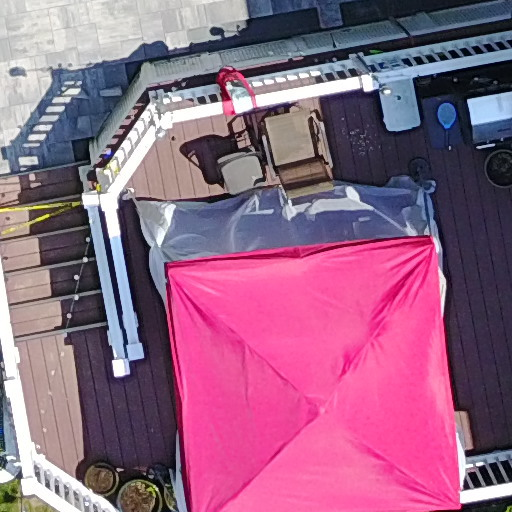container: (480, 136, 512, 196), (436, 98, 460, 132)
flower pot: (110, 473, 176, 512), (83, 455, 125, 500)
porch: (6, 8, 512, 505)
umbrella: (123, 172, 474, 512)
